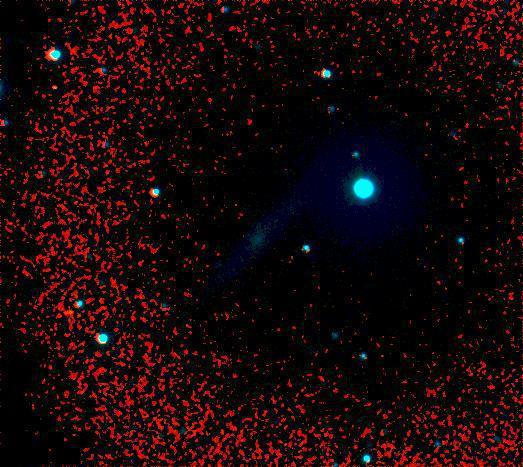star: (41, 71, 71, 101)
